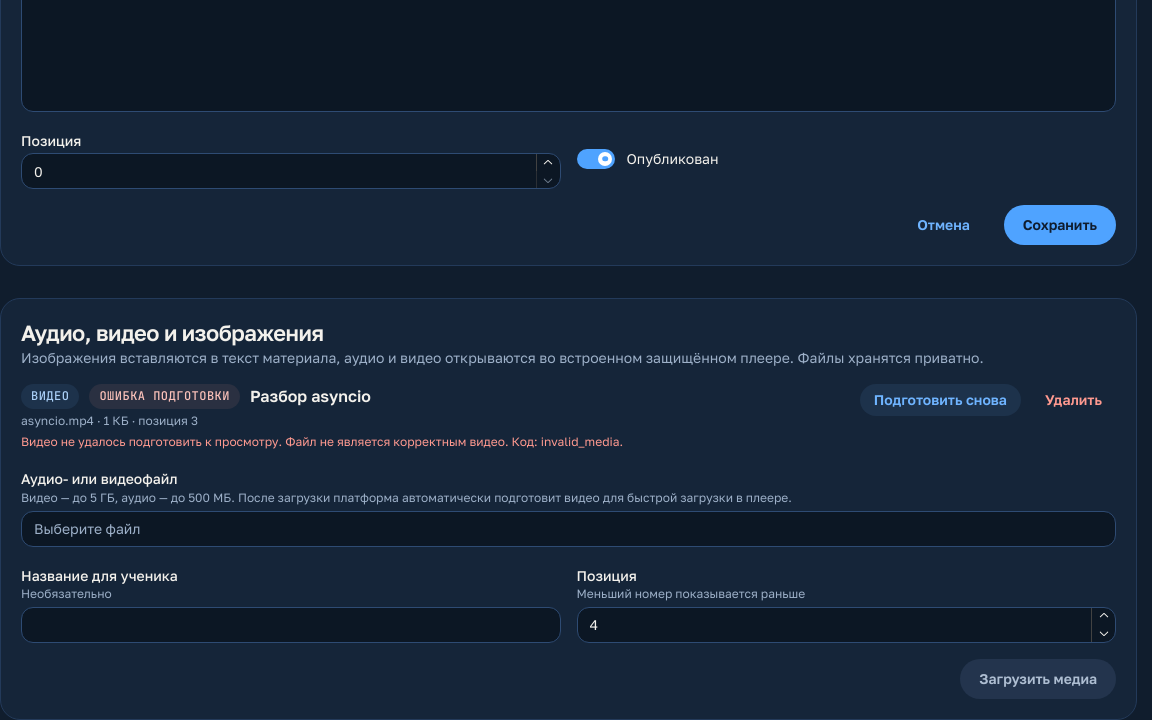
Test: администратор видит ошибку подготовки видео и может запустить её повторно
The width and height of the screenshot is (1152, 720).
(page scrolled)
expect the text "Ошибка подготовки" is shown: met, box [99, 388, 230, 404]
expect the text "Код: invalid_media" is shown: met, box [509, 434, 623, 449]
Step 1. Click the button "Подготовить снова" → (940, 400), box [860, 384, 1021, 416]
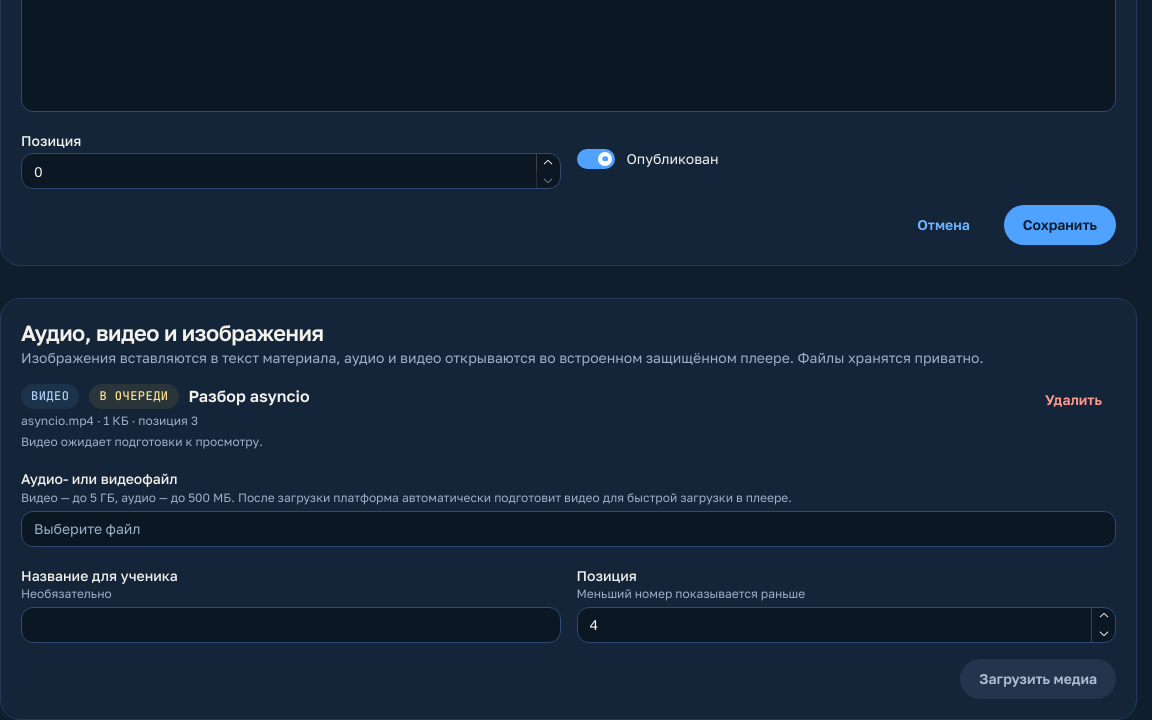
expect the text "В очереди" is shown: met, box [99, 388, 168, 404]
expect the button "Подготовить снова" is gone: met
